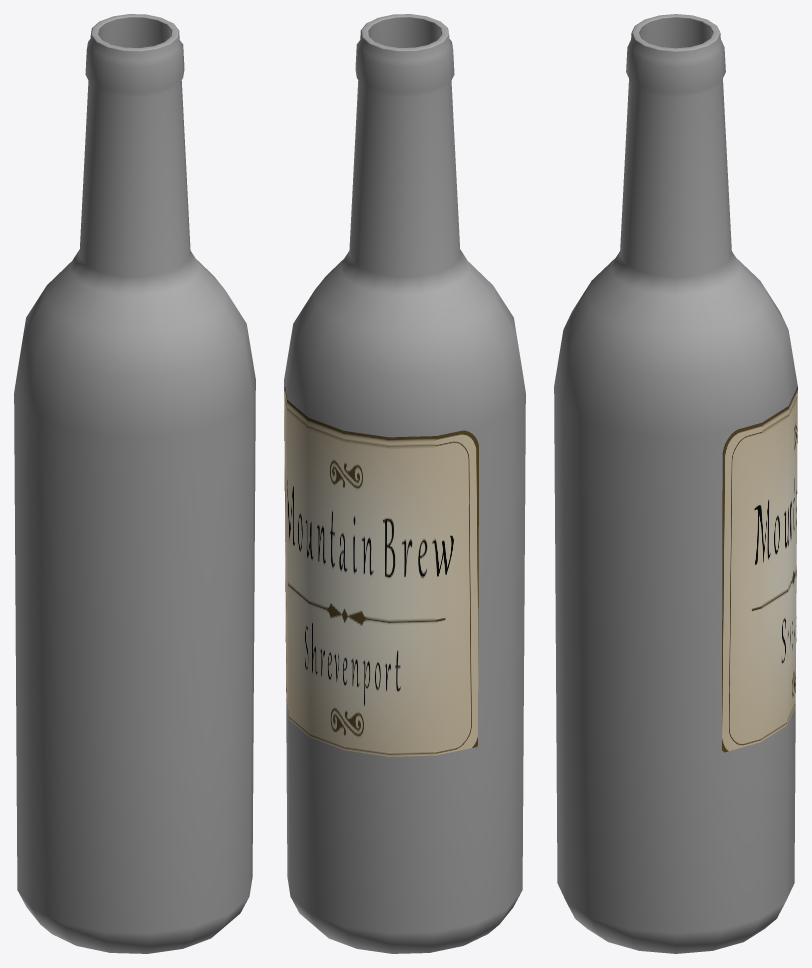
Rendered from bottle_01.fbx.
3 renders of one model, left to right at view 1: azimuth 30°, elevation 25°; view 2: azimuth 150°, elevation 25°; view 3: azimuth 270°, elevation 25°, orthographic.
Visible parts, largest first — view 1: bottle; view 2: bottle; view 3: bottle.
Part boxes in pixels (x1,y1,x2,y2): bottle: (14, 14, 255, 953); bottle: (284, 14, 525, 953); bottle: (554, 14, 797, 953).
Bounding box in the file's own units: 14.9 × 59.41 × 14.9.
